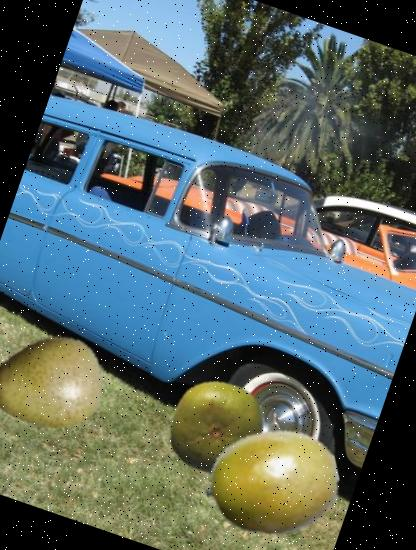Maracuja: (188, 398, 357, 550)
Pear: (0, 309, 121, 462)
Pomelo: (155, 365, 278, 488)
